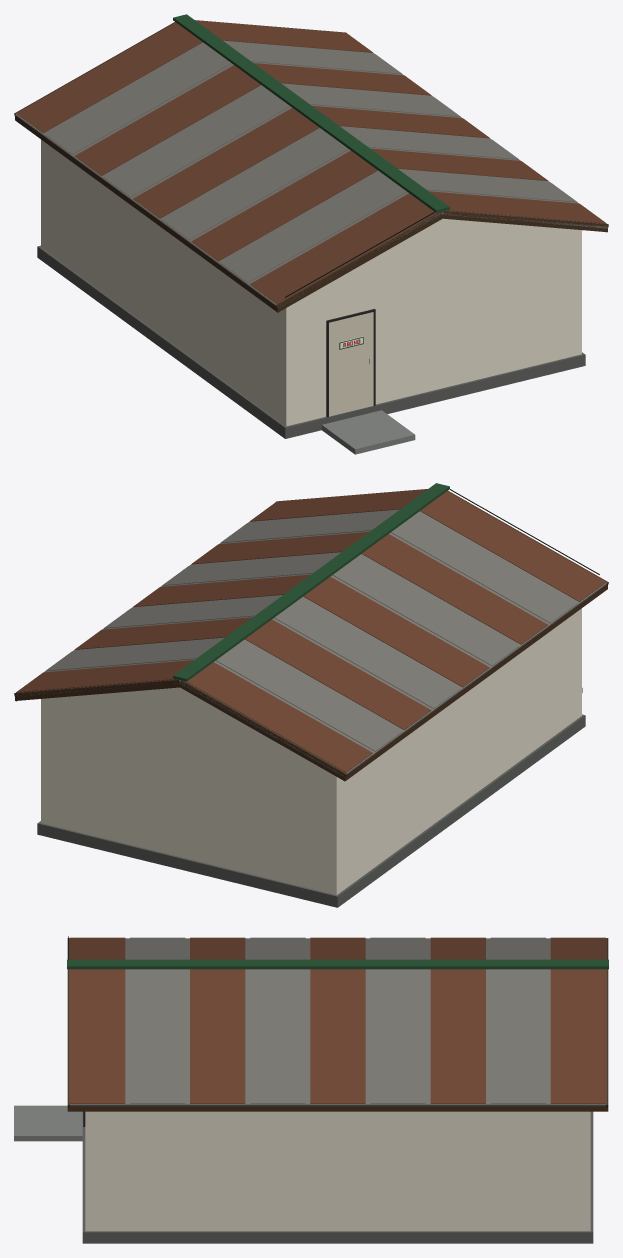
Rendered from warehouse_1.glb.
3 views of the same model, one above another, from view 1: azimuth 30°, elevation 25°; view 2: azimuth 150°, elevation 25°; view 3: azimuth 270°, elevation 25° (orthographic). The views are drawn at different scales.
Visible parts, largest first — view 1: WH1_MainWalls, WH1_Plinth, WH1_RoofStripL_1, WH1_RoofStripL_4, WH1_RoofStripL_7, WH1_RoofStripL_2, WH1_RoofStripL_3, WH1_RoofStripL_8, WH1_RoofStripL_5, WH1_RoofStripL_6, WH1_RoofStripL_0, WH1_GableFront (+17 smaller); view 2: WH1_MainWalls, WH1_Plinth, WH1_RoofStripL_5, WH1_RoofStripL_8, WH1_RoofStripL_0, WH1_RoofStripL_2, WH1_RoofStripL_3, WH1_RoofStripL_6, WH1_RoofStripL_1, WH1_RoofStripL_4, WH1_RoofStripL_7, WH1_GableRear (+15 smaller); view 3: WH1_MainWalls, WH1_RoofRight, WH1_Plinth, WH1_RoofStripR_0, WH1_RoofStripR_1, WH1_RoofStripR_2, WH1_RoofStripR_3, WH1_RoofStripR_4, WH1_RoofStripR_5, WH1_RoofStripR_6, WH1_RoofStripR_7, WH1_RoofStripR_8 (+13 smaller).
Part boxes in pixels (x1,y1,x2,y2): WH1_MainWalls: (41, 139, 581, 426); WH1_Plinth: (37, 245, 585, 438); WH1_RoofStripL_1: (221, 172, 406, 282); WH1_RoofStripL_4: (133, 108, 319, 218); WH1_RoofStripL_7: (45, 44, 231, 154); WH1_RoofStripL_2: (191, 150, 377, 261); WH1_RoofStripL_3: (162, 129, 348, 239); WH1_RoofStripL_8: (16, 22, 202, 133); WH1_RoofStripL_5: (104, 86, 290, 197); WH1_RoofStripL_6: (75, 65, 260, 175); WH1_RoofStripL_0: (250, 193, 436, 303); WH1_GableFront: (316, 218, 569, 291); WH1_MainWalls: (41, 608, 581, 895); WH1_Plinth: (37, 714, 585, 907); WH1_RoofStripL_5: (274, 598, 460, 708); WH1_RoofStripL_8: (186, 662, 372, 772); WH1_RoofStripL_0: (420, 491, 606, 601); WH1_RoofStripL_2: (362, 534, 547, 644); WH1_RoofStripL_3: (332, 555, 518, 665); WH1_RoofStripL_6: (245, 619, 431, 729); WH1_RoofStripL_1: (391, 512, 577, 623); WH1_RoofStripL_4: (303, 576, 489, 687); WH1_RoofStripL_7: (216, 641, 401, 751); WH1_GableRear: (53, 687, 306, 759); WH1_MainWalls: (85, 1111, 590, 1231); WH1_RoofRight: (69, 969, 606, 1106); WH1_Plinth: (82, 1111, 593, 1243); WH1_RoofStripR_0: (70, 969, 125, 1103); WH1_RoofStripR_1: (130, 969, 185, 1103); WH1_RoofStripR_2: (190, 969, 245, 1103); WH1_RoofStripR_3: (250, 969, 305, 1103); WH1_RoofStripR_4: (310, 969, 365, 1103); WH1_RoofStripR_5: (370, 969, 425, 1103); WH1_RoofStripR_6: (430, 969, 485, 1103); WH1_RoofStripR_7: (490, 969, 545, 1103); WH1_RoofStripR_8: (550, 969, 605, 1103).
Size of the model in its own units: 7.75 by 4.44 by 11.67.
